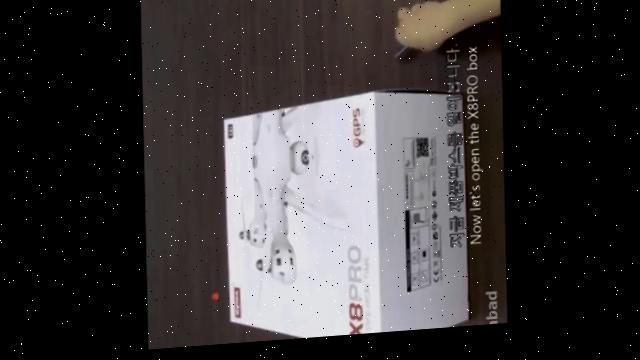drone: (235, 104, 339, 313)
